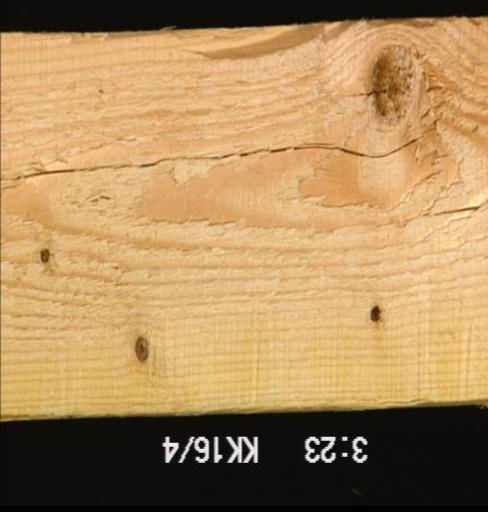small_knot: (37, 244, 52, 265)
sound_knot: (366, 38, 426, 130), (132, 333, 150, 363)
split: (0, 130, 439, 185), (422, 194, 486, 220)
wave: (61, 24, 361, 73)
